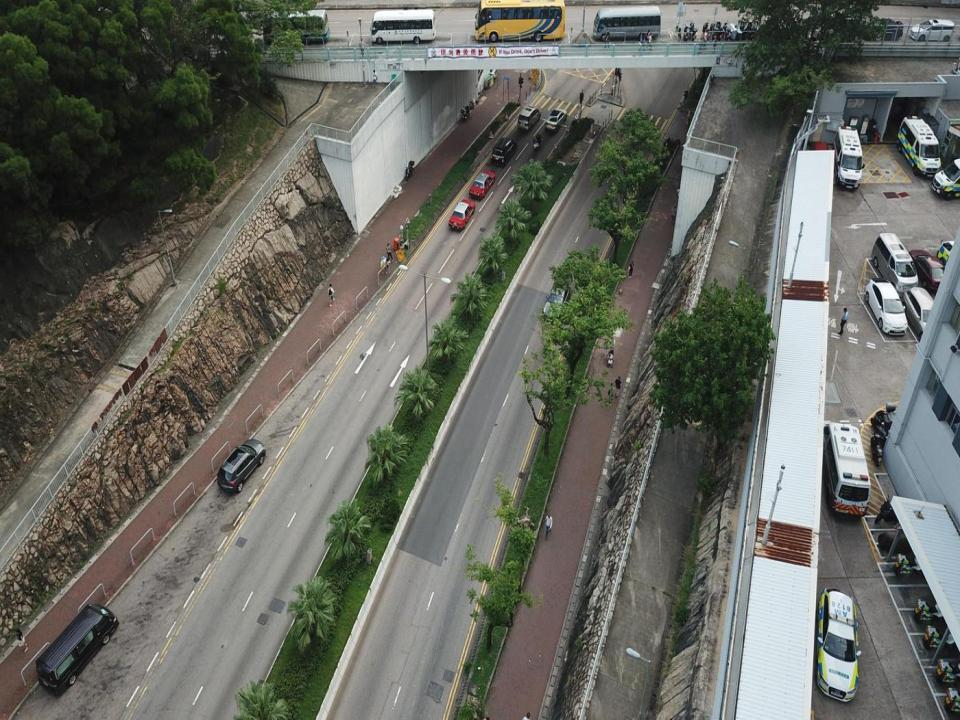bus: (474, 0, 564, 41), (594, 6, 660, 43), (371, 10, 437, 41), (291, 10, 329, 45)
car: (816, 589, 860, 703), (907, 248, 954, 301), (864, 279, 907, 335), (864, 16, 903, 44), (727, 17, 770, 42), (541, 284, 570, 321), (449, 198, 477, 232), (468, 168, 494, 203), (937, 240, 960, 274), (544, 108, 566, 130)
van: (36, 603, 120, 699), (872, 232, 920, 292), (903, 285, 944, 353), (217, 441, 265, 494), (910, 16, 954, 45), (491, 138, 516, 165), (517, 106, 540, 129)
